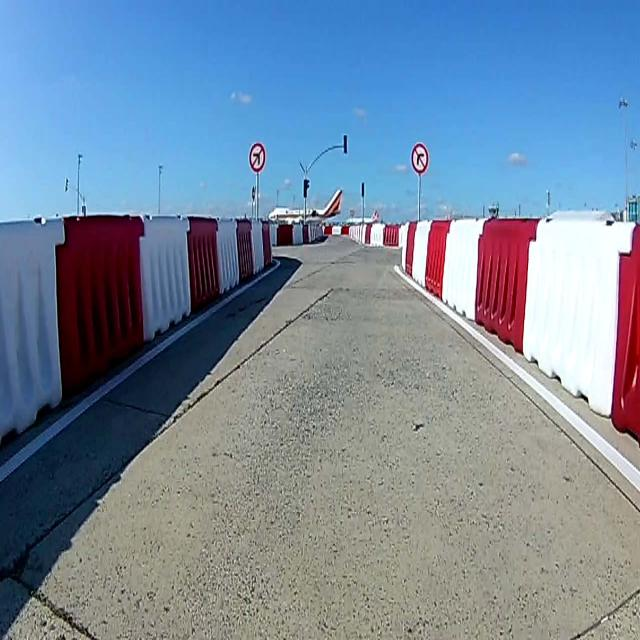sagadonulmez: (411, 144, 429, 171)
soladonulmez: (248, 144, 266, 172)
